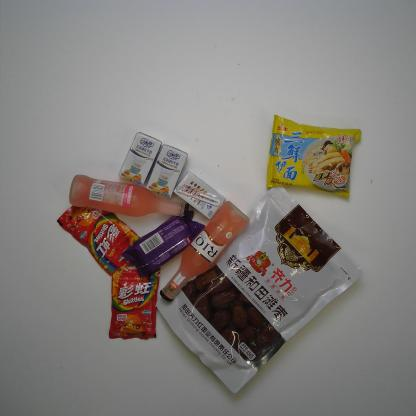Alcohol: (158, 198, 250, 303), (68, 174, 189, 218)
Candy: (56, 196, 142, 278), (107, 258, 162, 345)
Dessert: (121, 208, 206, 278)
Dried Food: (155, 184, 368, 396)
Instant Noodles: (263, 112, 364, 202)
Milk: (172, 170, 226, 220), (116, 130, 162, 187), (145, 140, 189, 197)
